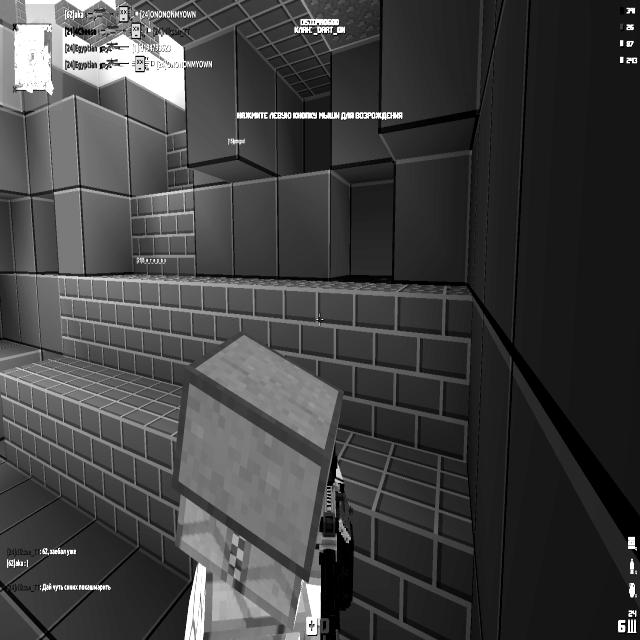Head: (171, 333, 332, 596)
Player: (172, 330, 354, 638)
